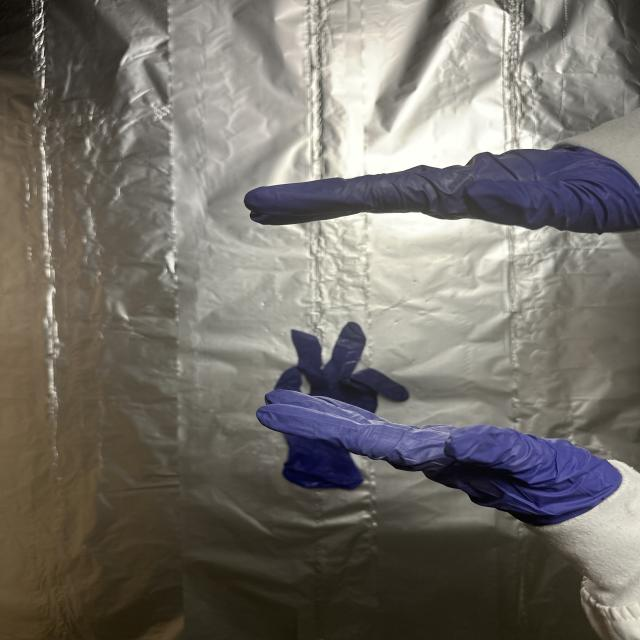gloves_contaminated: (257, 390, 621, 526), (245, 146, 640, 234)
